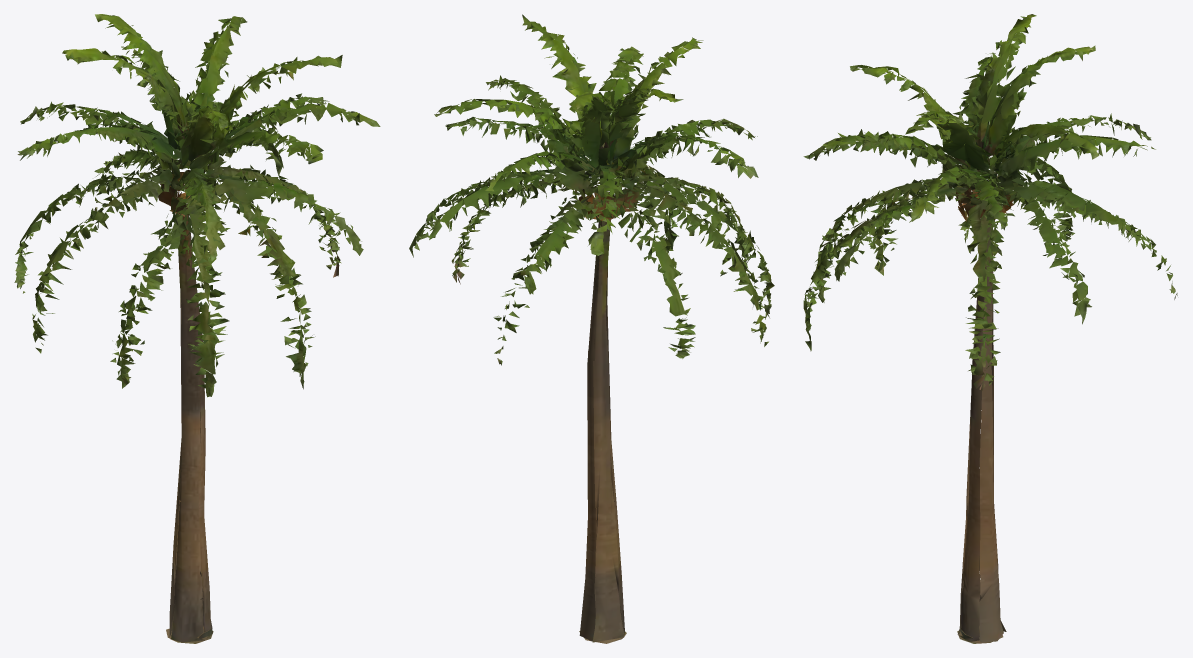
The model's file is palm-b.glb.
3 renders of one model, left to right at view 1: azimuth 30°, elevation 25°; view 2: azimuth 150°, elevation 25°; view 3: azimuth 270°, elevation 25°, orthographic. The views are drawn at different scales.
Parts seen in each view (by area): view 1: Mesh_0; view 2: Mesh_0; view 3: Mesh_0.
Part boxes in pixels (box(x1,y1,x2,y2)): Mesh_0: box(14, 14, 380, 643); Mesh_0: box(409, 14, 774, 643); Mesh_0: box(803, 14, 1177, 643).
Size of the model in its own units: 6.81 by 12 by 7.12.
Materials: 1 (1 with a texture image).
